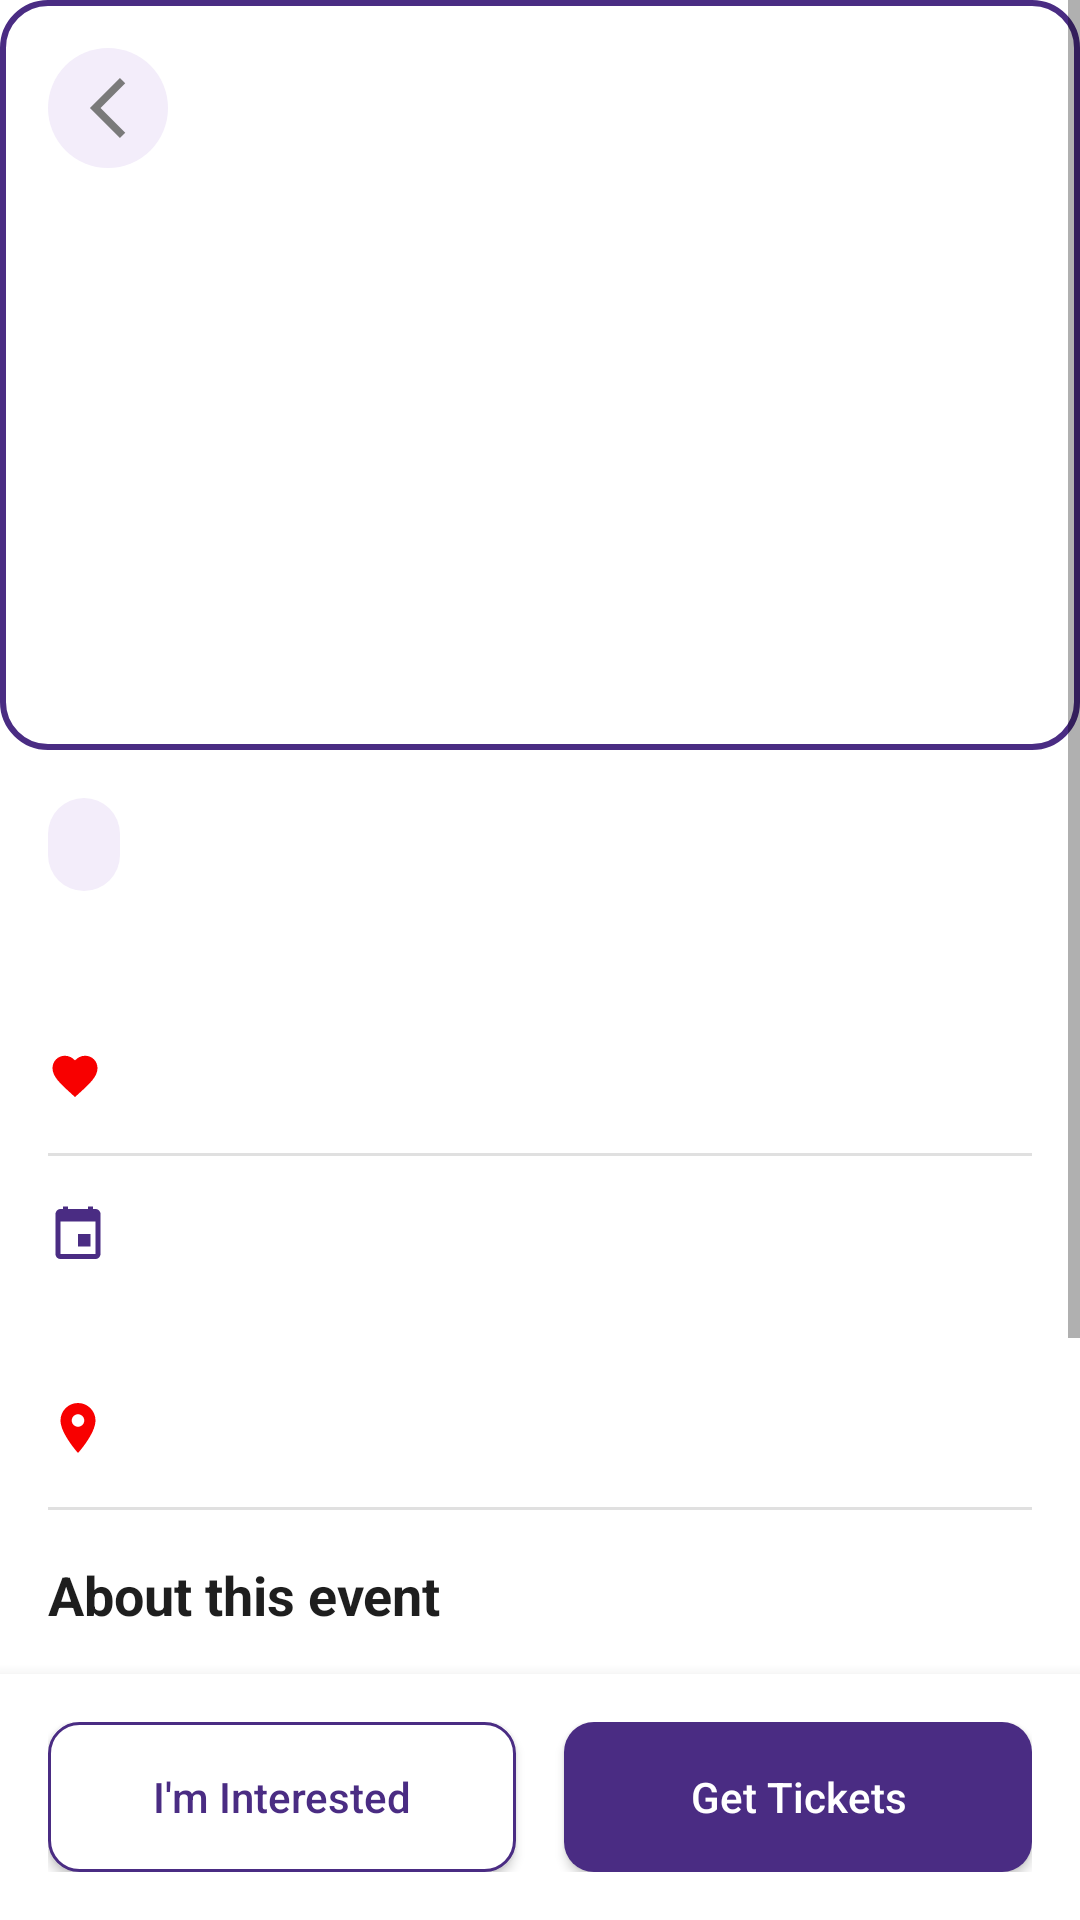

Named icons in this screenshot (1080*1920) and their centers, (x=x, y=y):
Date: (x=78, y=1232)
Interested: (x=75, y=1076)
Location: (x=78, y=1428)
